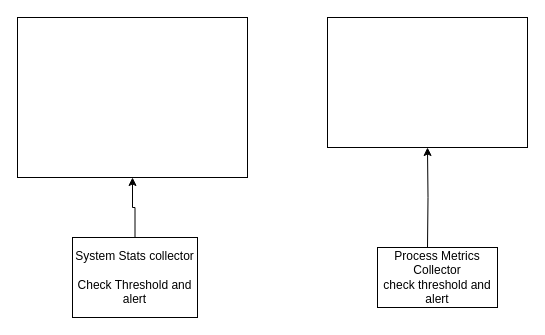
This 545x335 diagram has some shape labels left out. Each missing label, with the box of its shape:
ProcessMetrics Name PID CPUUsage MemUsage: (326, 16, 528, 148)
SystemStats CPUUsage AvgLoad MemoryUsage TotalMemory ActiveConnCount LastUpdated: (16, 16, 248, 178)
